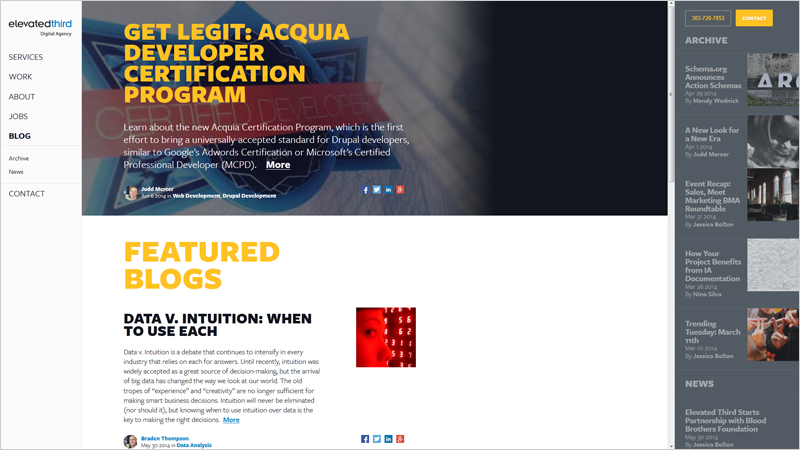Image: (85, 0, 669, 213)
Side Bar: (675, 0, 800, 446), (0, 0, 83, 450)
